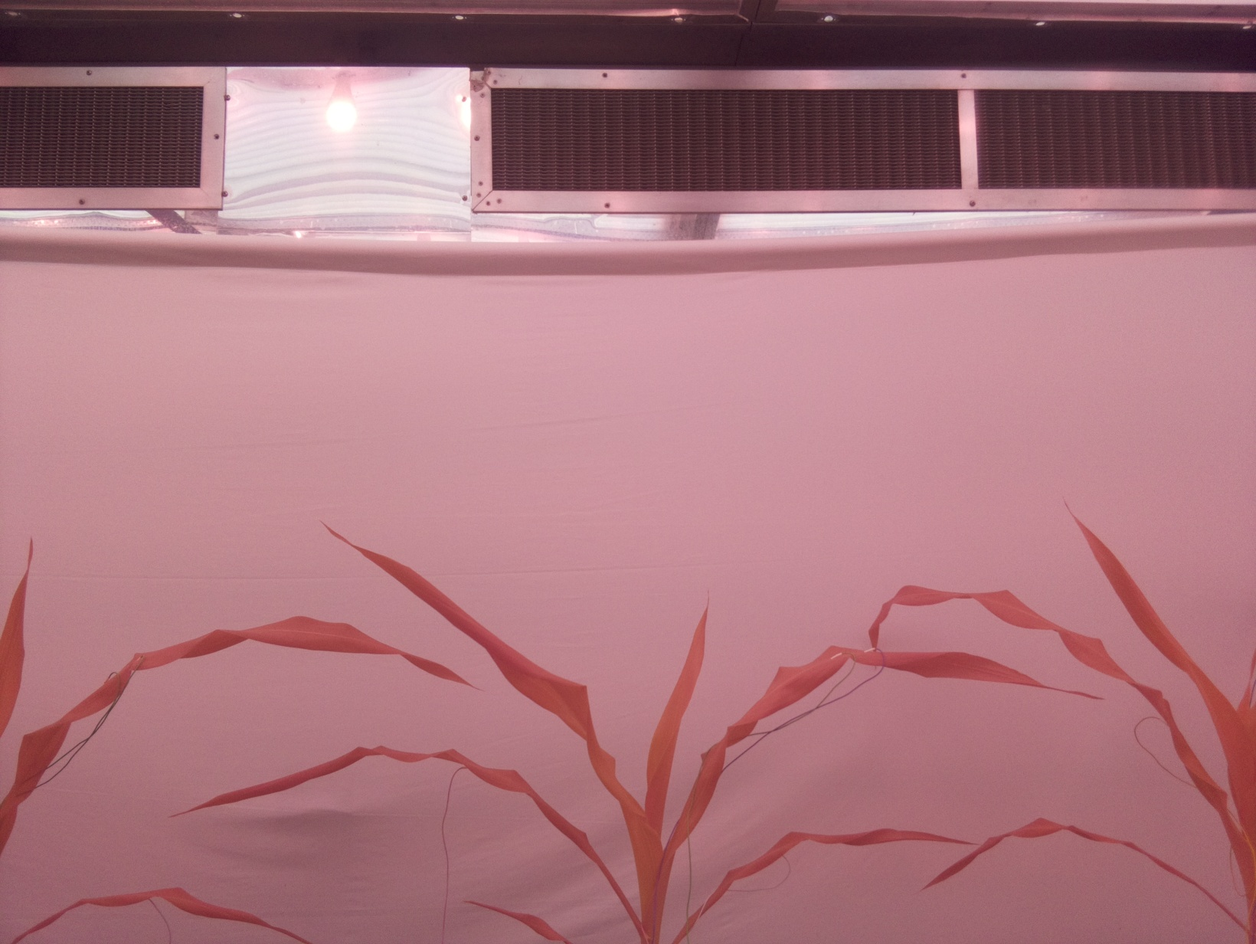maize: (160, 516, 1111, 944), (0, 536, 479, 944), (872, 497, 1256, 944)
